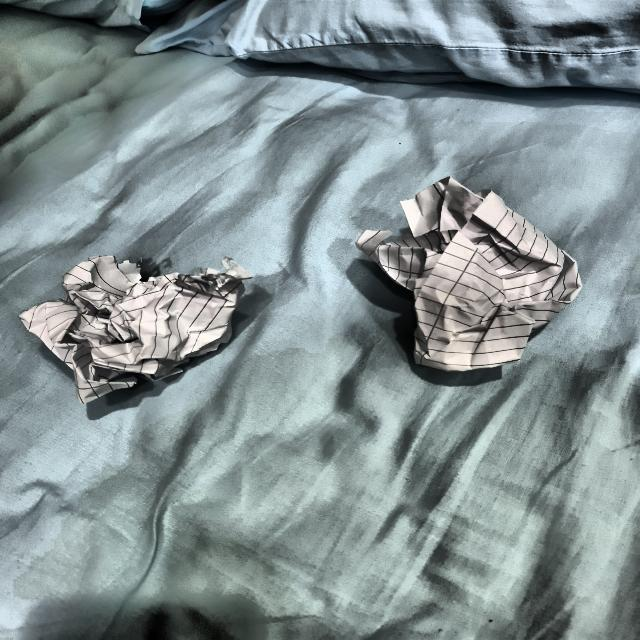Paper: (360, 183, 592, 377), (20, 254, 259, 415)
